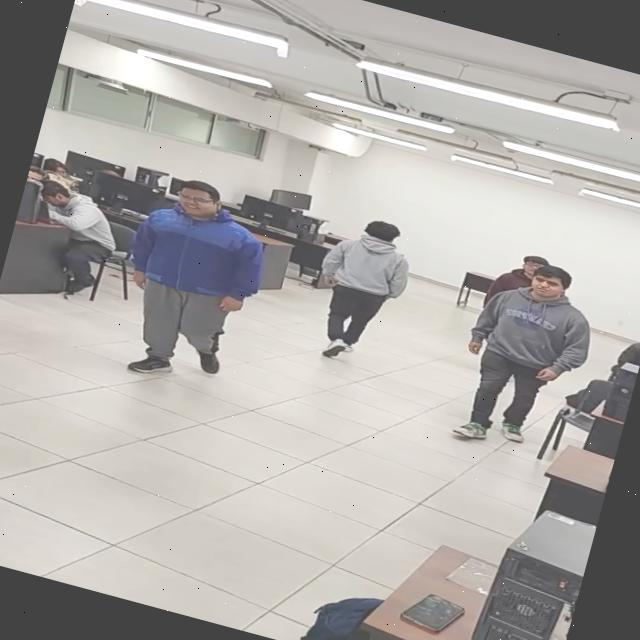Persona: (106, 166, 269, 397), (438, 247, 590, 460), (300, 210, 420, 372), (481, 236, 548, 295)
